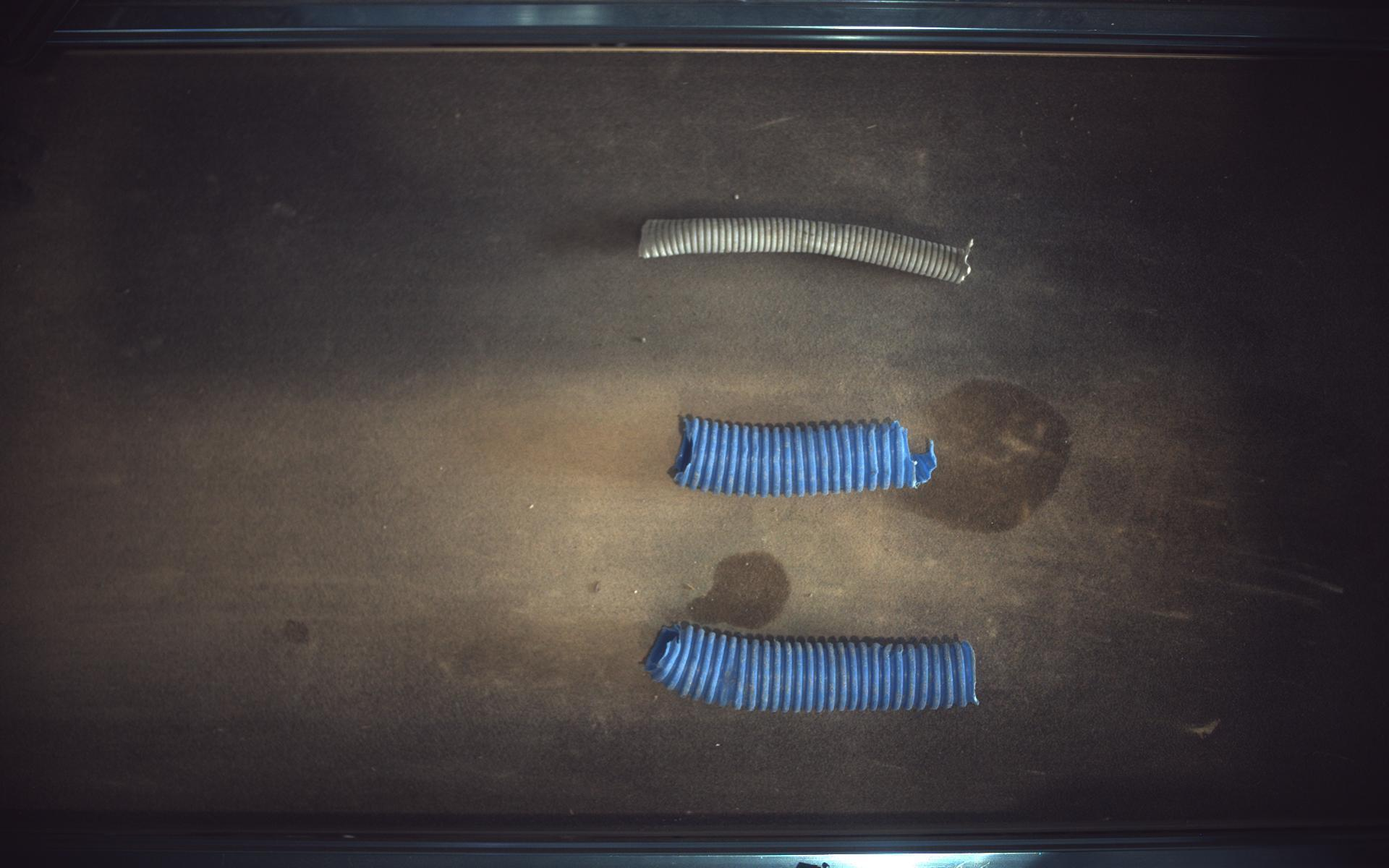pipes: (645, 623, 980, 714), (639, 218, 976, 283), (671, 416, 938, 498)
